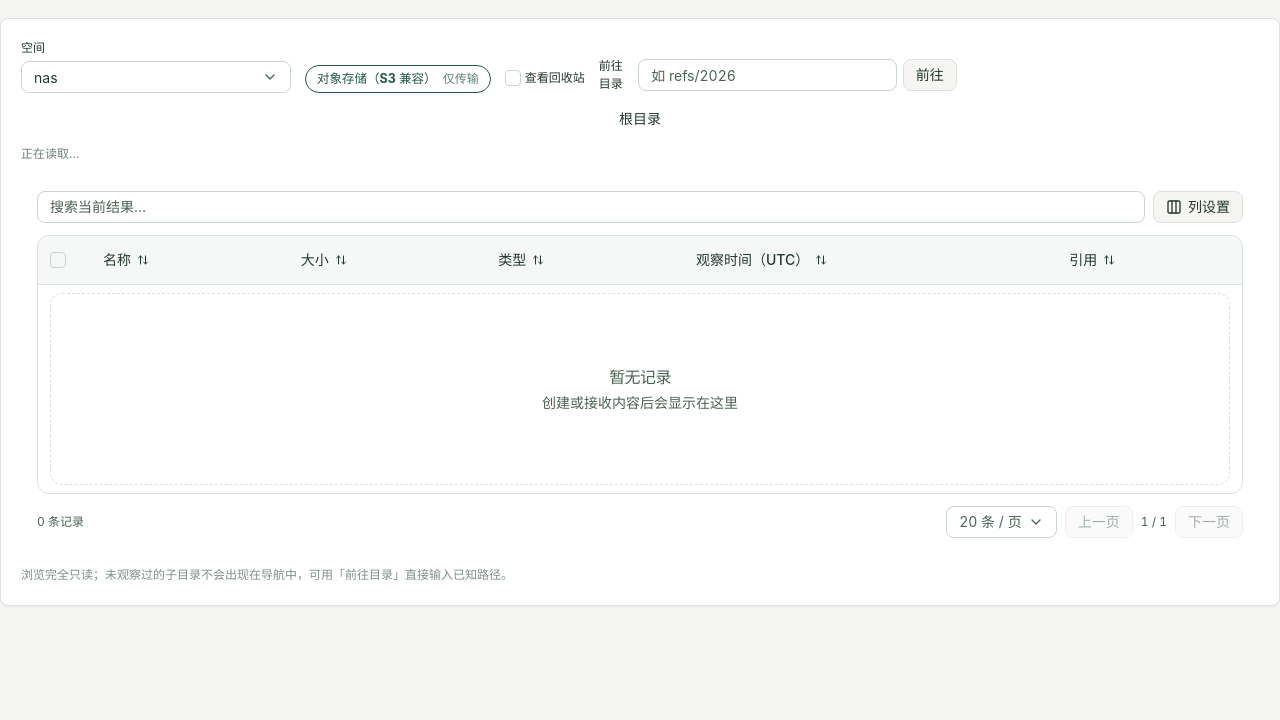
Test case: rejects traversal input before any request
This screenshot has width=1280, height=720.
Expected: the message "正在读取…" is shown, 21,146 -> 79,161
Step 1. Type "../escape" into the field labelled "前往目录" → (768, 75), box 638,59 -> 897,91
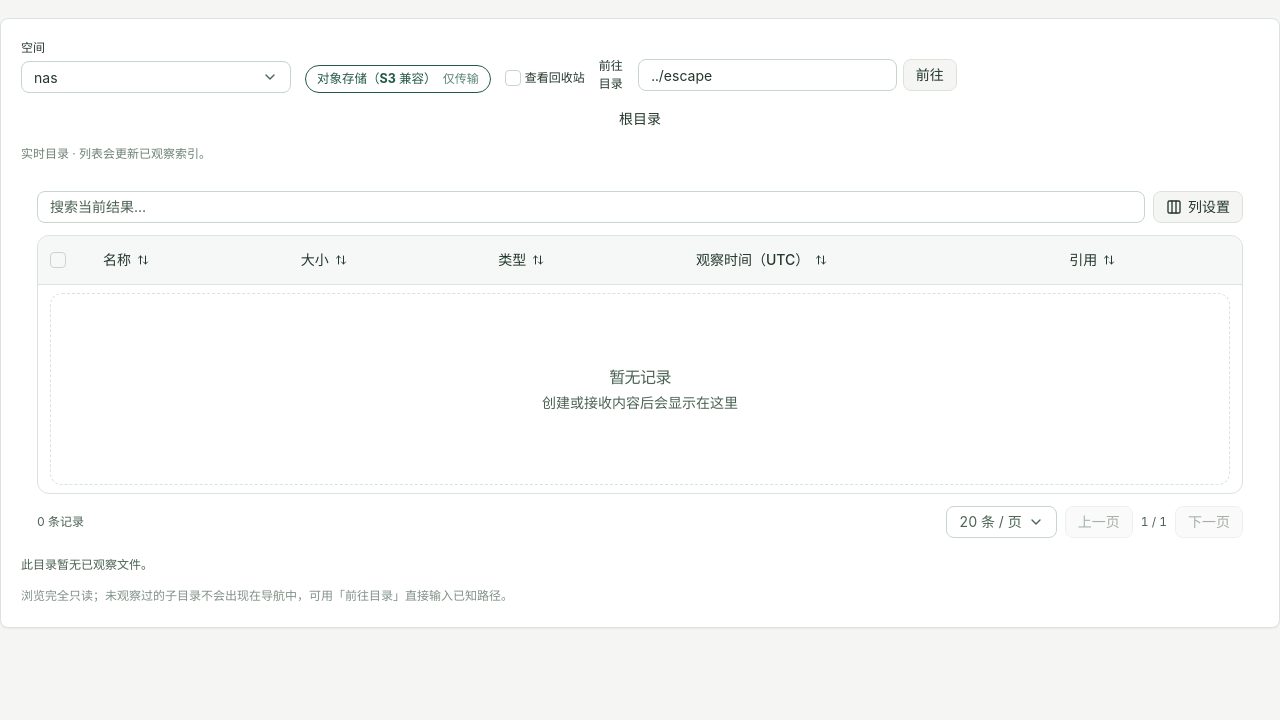
Step 2. Press Enter in the field labelled "前往目录", box 638,59 -> 897,91
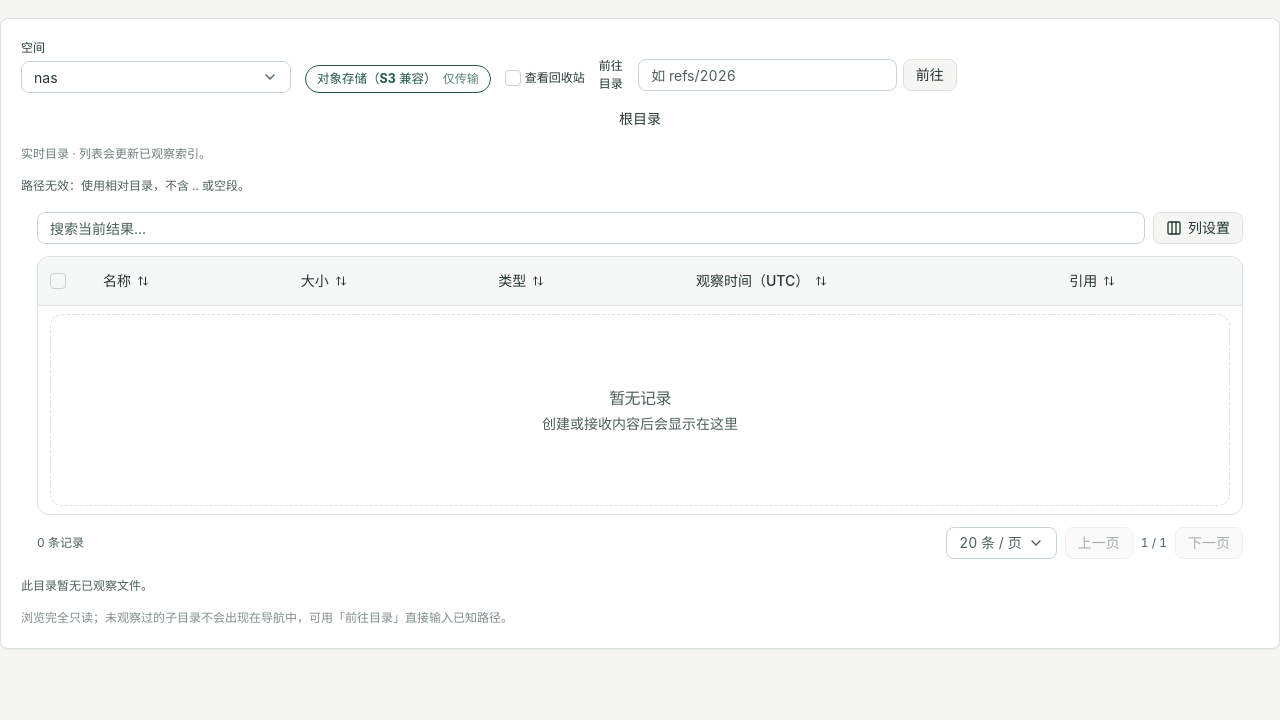
Now the text "路径无效：使用相对目录，不含 .. 或空段。" is shown, box 21,178 -> 250,193
